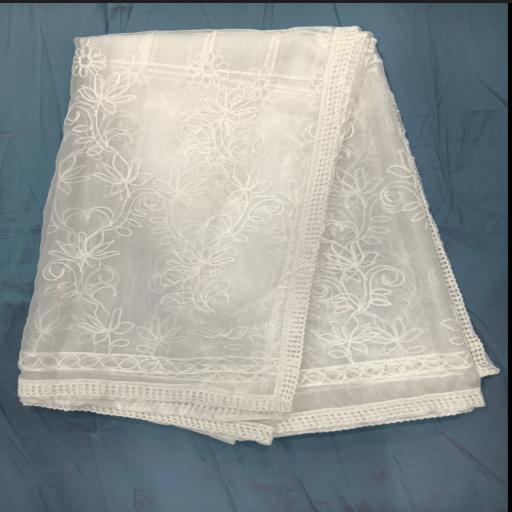dupatta: (16, 22, 500, 444)
